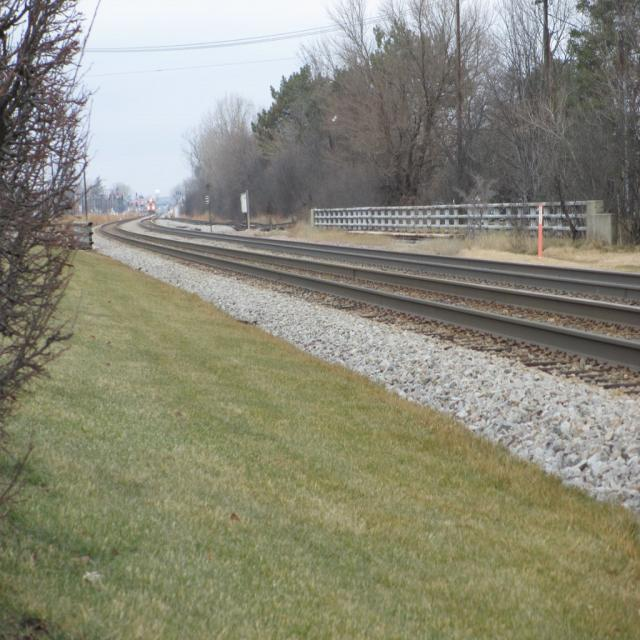locomotive: (146, 197, 156, 216)
